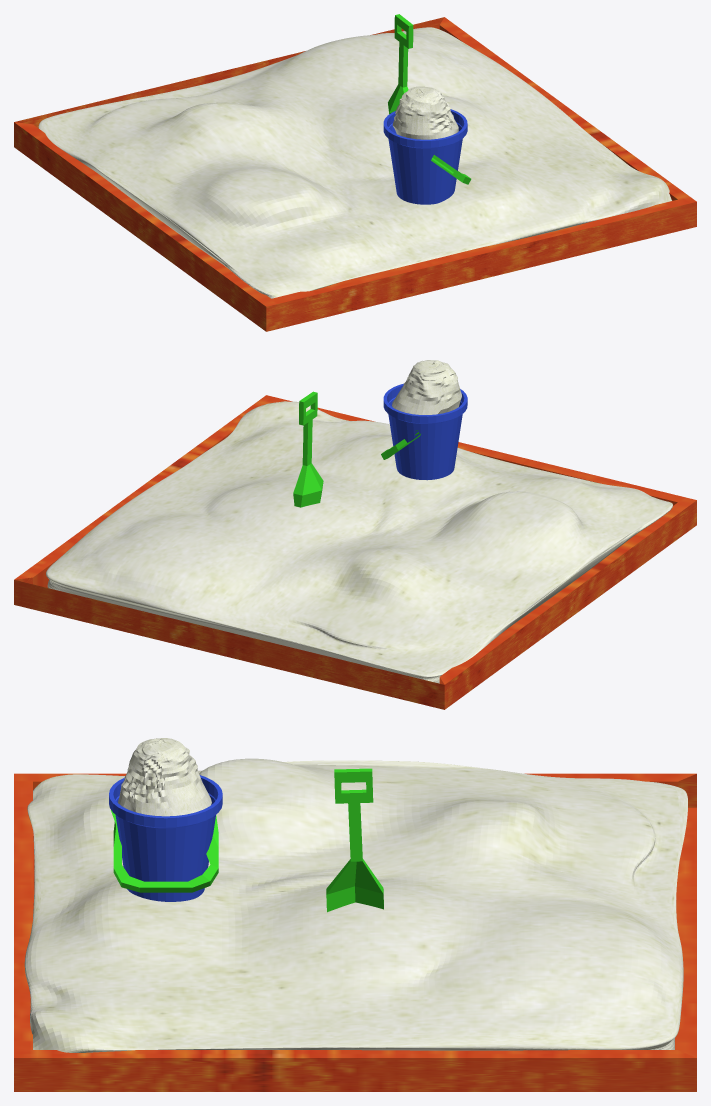
File: sandbox (1).fbx
The picture shows the model from 3 angles, top to bottom: view 1: azimuth 30°, elevation 25°; view 2: azimuth 150°, elevation 25°; view 3: azimuth 270°, elevation 25°; orthographic projection. The views are drawn at different scales.
Parts seen in each view (by area): view 1: Cube.001, Cube, Cylinder, Cube.004, Cube.002; view 2: Cube.001, Cube, Cylinder, Cube.004, Cube.002; view 3: Cube.001, Cube, Cylinder, Cube.004, Cube.002, Cube.003.
Part boxes in pixels (box(x1,y1,x2,y2)): Cube.001: box(38, 27, 671, 298); Cube: box(14, 17, 696, 331); Cylinder: box(383, 109, 467, 204); Cube.004: box(392, 86, 458, 139); Cube.002: box(388, 14, 413, 114); Cube.001: box(46, 401, 672, 683); Cube: box(14, 395, 696, 709); Cylinder: box(383, 383, 467, 480); Cube.004: box(392, 360, 461, 414); Cube.002: box(293, 391, 323, 507); Cube.001: box(24, 758, 687, 1052); Cube: box(14, 773, 696, 1091); Cylinder: box(109, 775, 222, 901); Cube.004: box(118, 738, 211, 816); Cube.002: box(326, 768, 383, 912); Cube.003: box(111, 810, 218, 892).
Bounding box in the file's own units: 854 × 296 × 867.
